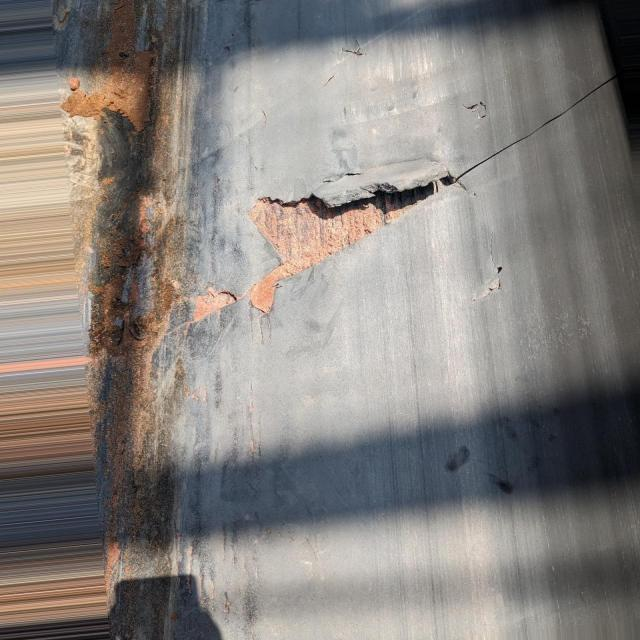Tear: (170, 67, 614, 340), (474, 254, 512, 307), (459, 100, 491, 121), (334, 44, 370, 58)
